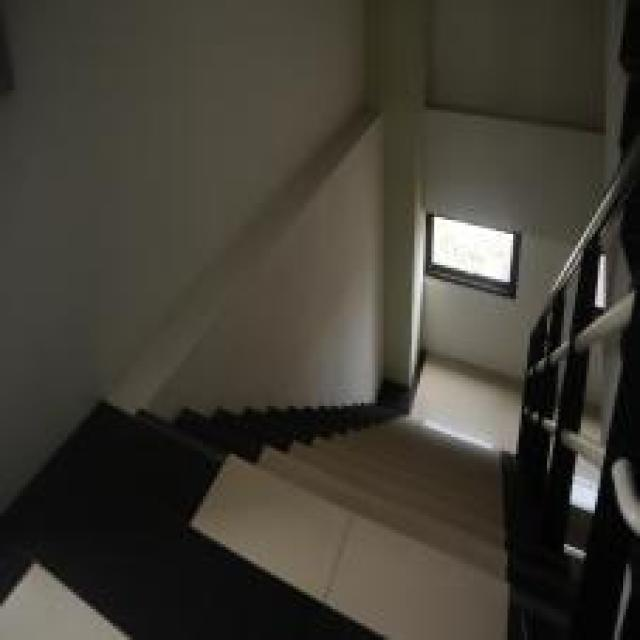downstair: (258, 421, 407, 540)
